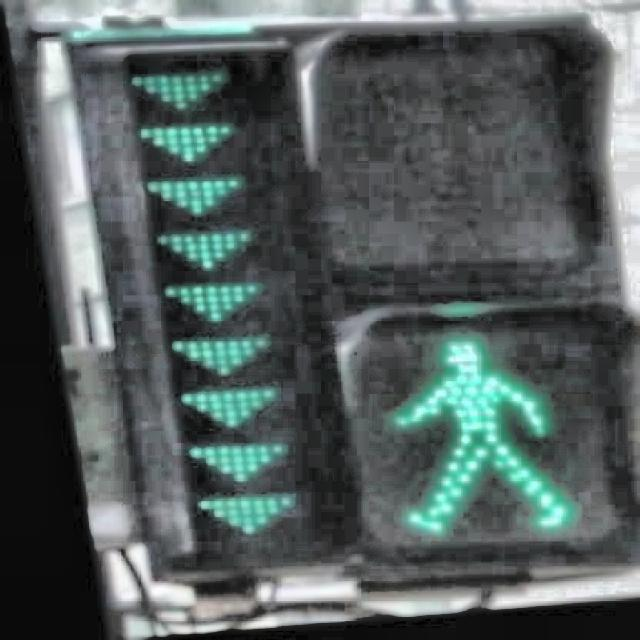semaforo pedestre: (77, 0, 640, 635)
